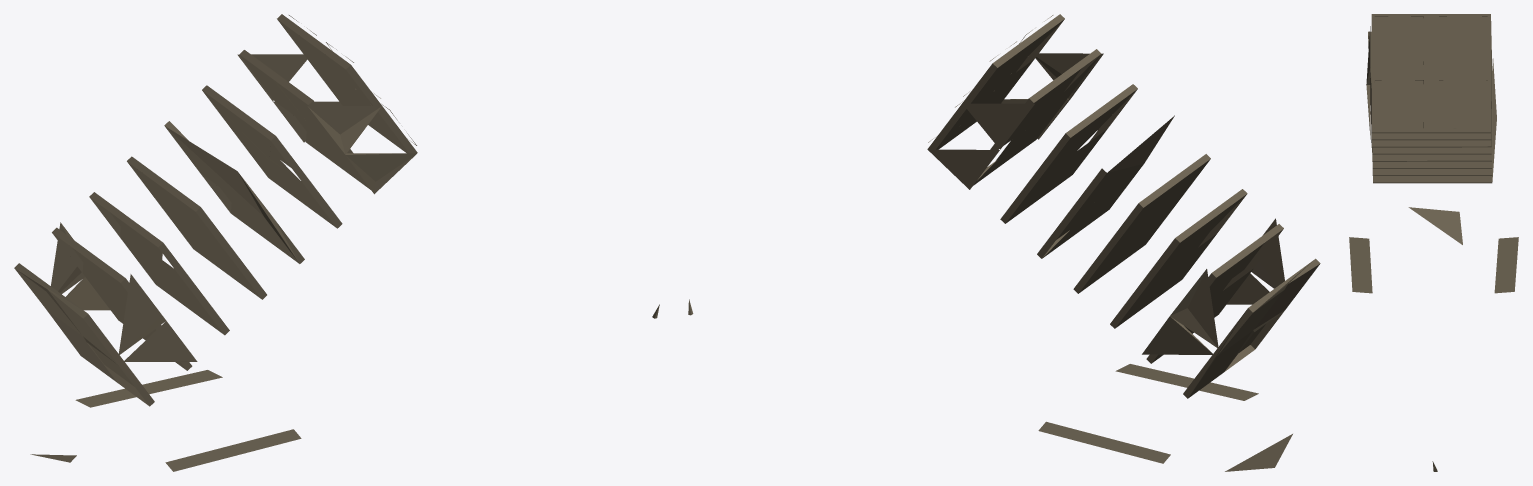
File: patriot.lod2.glb
3 views of the same model, side by side, from view 1: azimuth 30°, elevation 25°; view 2: azimuth 150°, elevation 25°; view 3: azimuth 270°, elevation 25° (orthographic). The views are drawn at different scales.
Visible parts, largest first — view 1: Object_2; view 2: Object_2; view 3: Object_2.
Boxes of the visible parts, bbox=[...] form: Object_2: bbox=[14, 14, 659, 471]; Object_2: bbox=[688, 14, 1320, 471]; Object_2: bbox=[1349, 14, 1518, 471].
Bounding box in the file's own units: 9.93 × 5.8 × 2.75.
